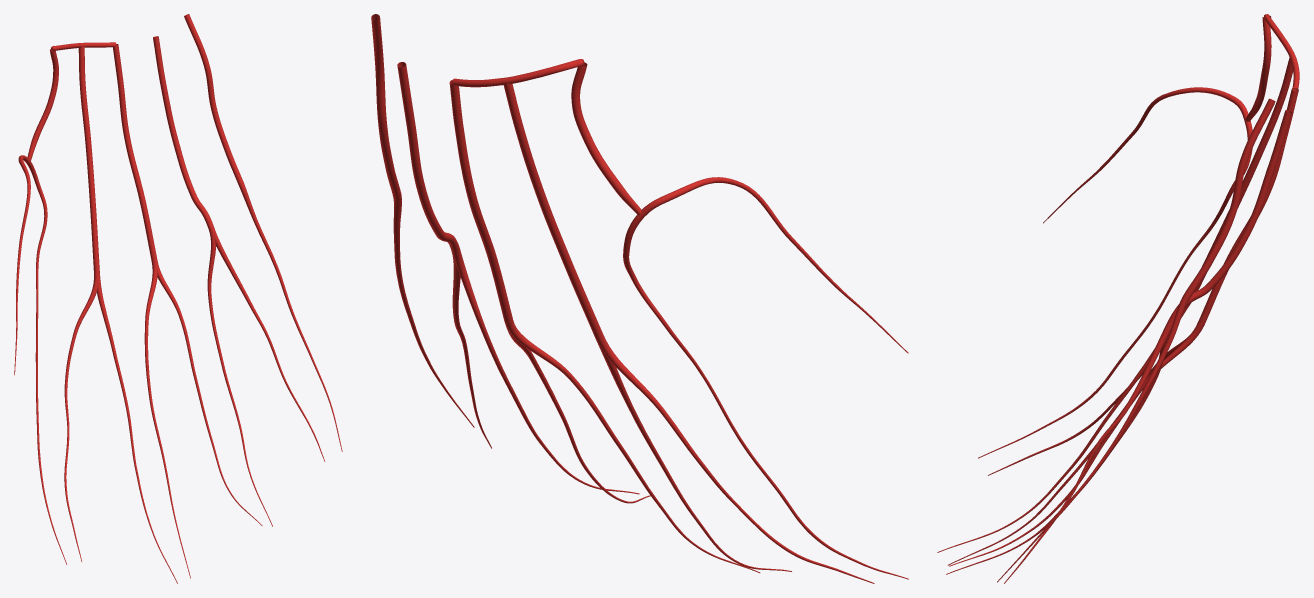
The model's file is circulatorio-dorsal-carpal-anastomosis-r.glb.
3 views of the same model, side by side, from view 1: azimuth 30°, elevation 25°; view 2: azimuth 150°, elevation 25°; view 3: azimuth 270°, elevation 25° (orthographic). The views are drawn at different scales.
Visible parts, largest first — view 1: Dorsal digital arteries of hand.r, Dorsal metacarpal arteries.r; view 2: Dorsal digital arteries of hand.r, Dorsal metacarpal arteries.r, Dorsal carpal anastomosis.r; view 3: Dorsal digital arteries of hand.r, Dorsal metacarpal arteries.r, Dorsal carpal anastomosis.r.
Part boxes in pixels (x1,y1,x2,y2): Dorsal digital arteries of hand.r: (14,155,342,583); Dorsal metacarpal arteries.r: (27,14,243,271); Dorsal digital arteries of hand.r: (393,177,908,583); Dorsal metacarpal arteries.r: (371,14,641,337); Dorsal carpal anastomosis.r: (452,59,584,87); Dorsal digital arteries of hand.r: (937,87,1252,583); Dorsal metacarpal arteries.r: (1172,17,1298,324); Dorsal carpal anastomosis.r: (1264,14,1299,91).
Bounding box in the file's own units: 0.1029 × 0.138 × 0.0829.
